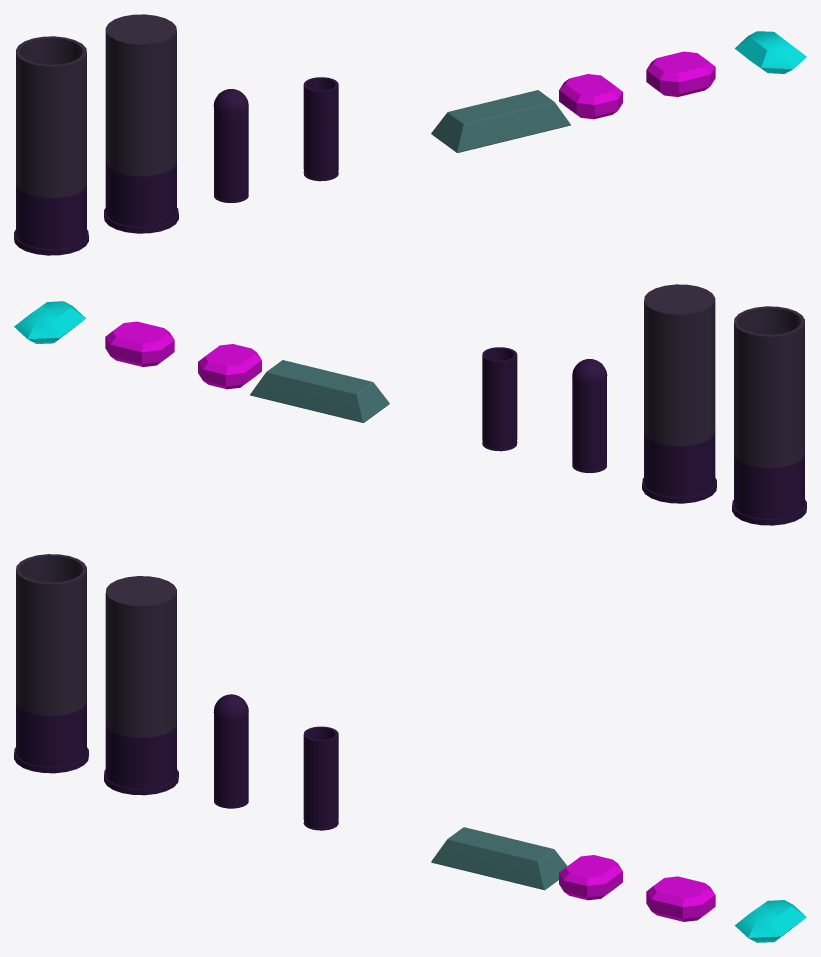
Rendered from Uv_Set_10.fbx.
3 views of the same model, one above another, from view 1: azimuth 30°, elevation 25°; view 2: azimuth 150°, elevation 25°; view 3: azimuth 330°, elevation 25° (orthographic).
Parts seen in each view (by area): view 1: Bullets_and_Jewels; view 2: Bullets_and_Jewels; view 3: Bullets_and_Jewels.
Part boxes in pixels (<box>): Bullets_and_Jewels: <box>14,14,806,255</box>; Bullets_and_Jewels: <box>14,284,806,525</box>; Bullets_and_Jewels: <box>14,554,806,942</box>.
Bounding box in the file's own units: 4.31 × 1 × 0.4374.
